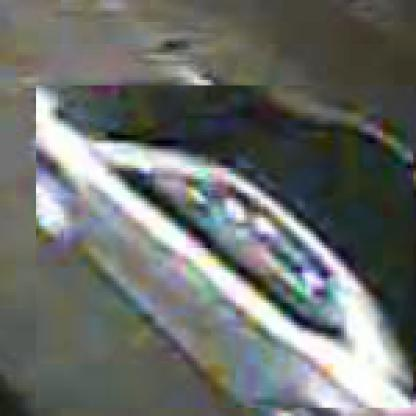car: (35, 87, 415, 412)
